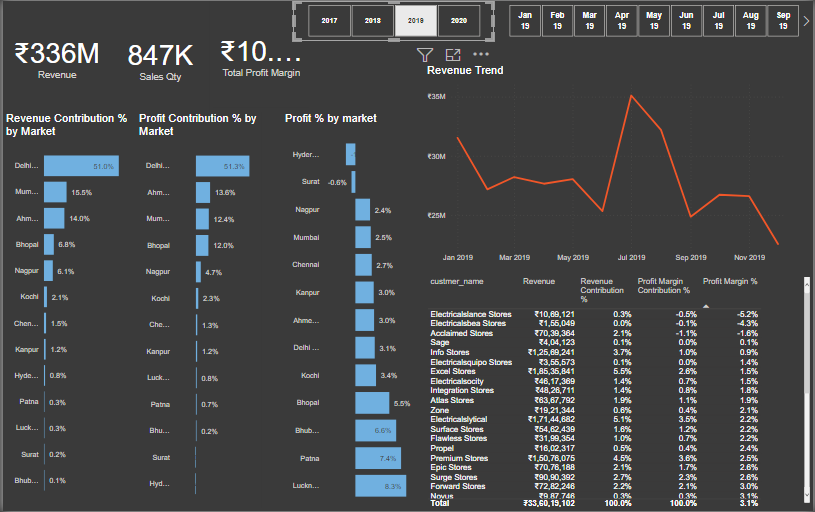

Layout of this report page (visuals, bound fields, positions):
{"tool":"powerbi","page":{"name":"Profit Analysis","canvas":[1350,850],"ordinal":1},"visuals":[{"type":"card","fields":{"Values":["BaseMeasures (2).Revenue"]},"box":[0,0,179.6,184.8],"z":0},{"type":"card","fields":{"Values":["BaseMeasures (2).Sales Qty"]},"box":[179.6,0,164.1,193],"z":1000},{"type":"barChart","title":"Profit % by market","fields":{"Y":["BaseMeasures (2).Profit Margin %"],"Category":["sales markets.markets_name"]},"box":[464.5,184.8,230.2,664.8],"z":2000},{"type":"barChart","title":"Profit Contribution % by Market","fields":{"Y":["BaseMeasures (2).Profit Margin Contribution %"],"Category":["sales markets.markets_name"]},"box":[221.9,185.8,208.5,659.6],"z":3000},{"type":"slicer","fields":{"Values":["sales date.year"]},"box":[483.2,0,335.5,66.5],"z":4000},{"type":"slicer","fields":{"Values":["sales date.cy_date"]},"box":[818.6,0,531.7,66.5],"z":5000},{"type":"tableEx","title":"Top 5 Customers","fields":{"Values":["sales customers.custmer_name","BaseMeasures (2).Revenue","BaseMeasures (2).Revenue Contribution %","BaseMeasures (2).Profit Margin Contribution %","BaseMeasures (2).Profit Margin %"]},"box":[701.9,454.2,648.3,395.4],"z":6000},{"type":"lineChart","title":"Revenue Trend","fields":{"Y":["BaseMeasures (2).Revenue"],"Category":["sales date.cy_date"]},"box":[701.9,104.3,621.4,338.6],"z":7000},{"type":"card","fields":{"Values":["BaseMeasures (2).Total Profit Margin"]},"box":[349.9,0,161,176.5],"z":8000},{"type":"barChart","title":"Revenue Contribution % by Market","fields":{"Y":["BaseMeasures (2).Revenue Contribution %"],"Category":["sales markets.markets_name"]},"box":[0,185.8,219.9,654.5],"z":9000}]}

Visuals, with their boxes in screenshot pixels (x1, y1, x2, y2), scaled from the page's 1350x850 canvas onto the 815x512 screenshot:
card - BaseMeasures (2).Revenue: crop(0, 0, 108, 111)
card - BaseMeasures (2).Sales Qty: crop(108, 0, 207, 116)
"Profit % by market" barChart: crop(280, 111, 419, 511)
"Profit Contribution % by Market" barChart: crop(134, 112, 260, 509)
slicer - sales date.year: crop(292, 0, 494, 40)
slicer - sales date.cy_date: crop(494, 0, 814, 40)
"Top 5 Customers" tableEx: crop(424, 274, 814, 511)
"Revenue Trend" lineChart: crop(424, 63, 799, 267)
card - BaseMeasures (2).Total Profit Margin: crop(211, 0, 308, 106)
"Revenue Contribution % by Market" barChart: crop(0, 112, 133, 506)
